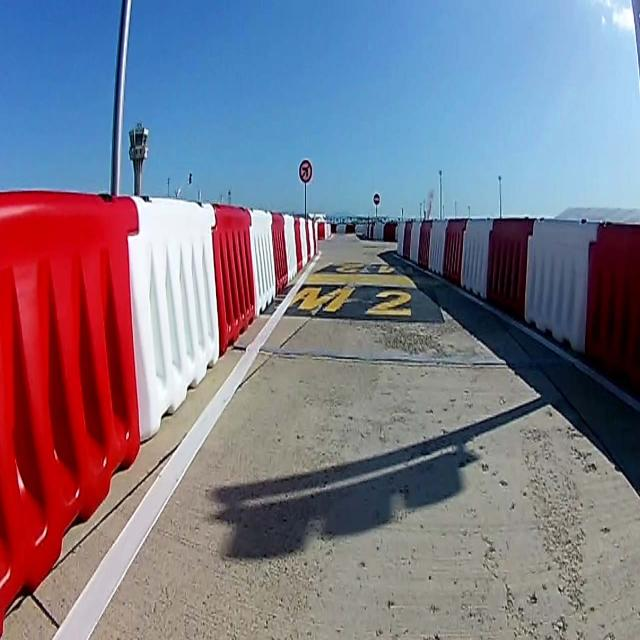girisyok: (373, 193, 381, 205)
soladonulmez: (298, 159, 312, 182)
